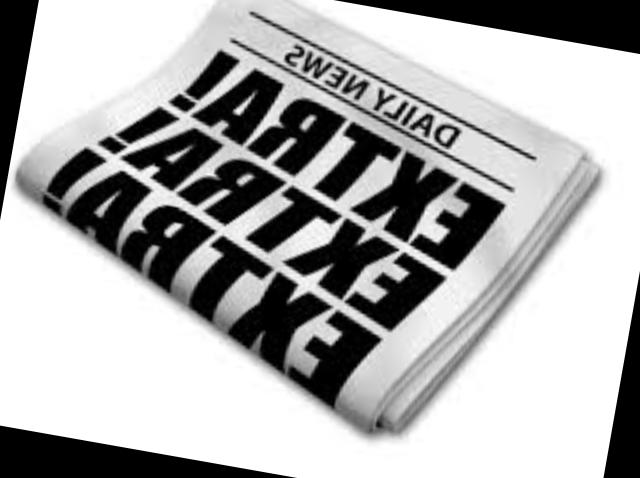cardboard paper: (22, 0, 601, 425)
